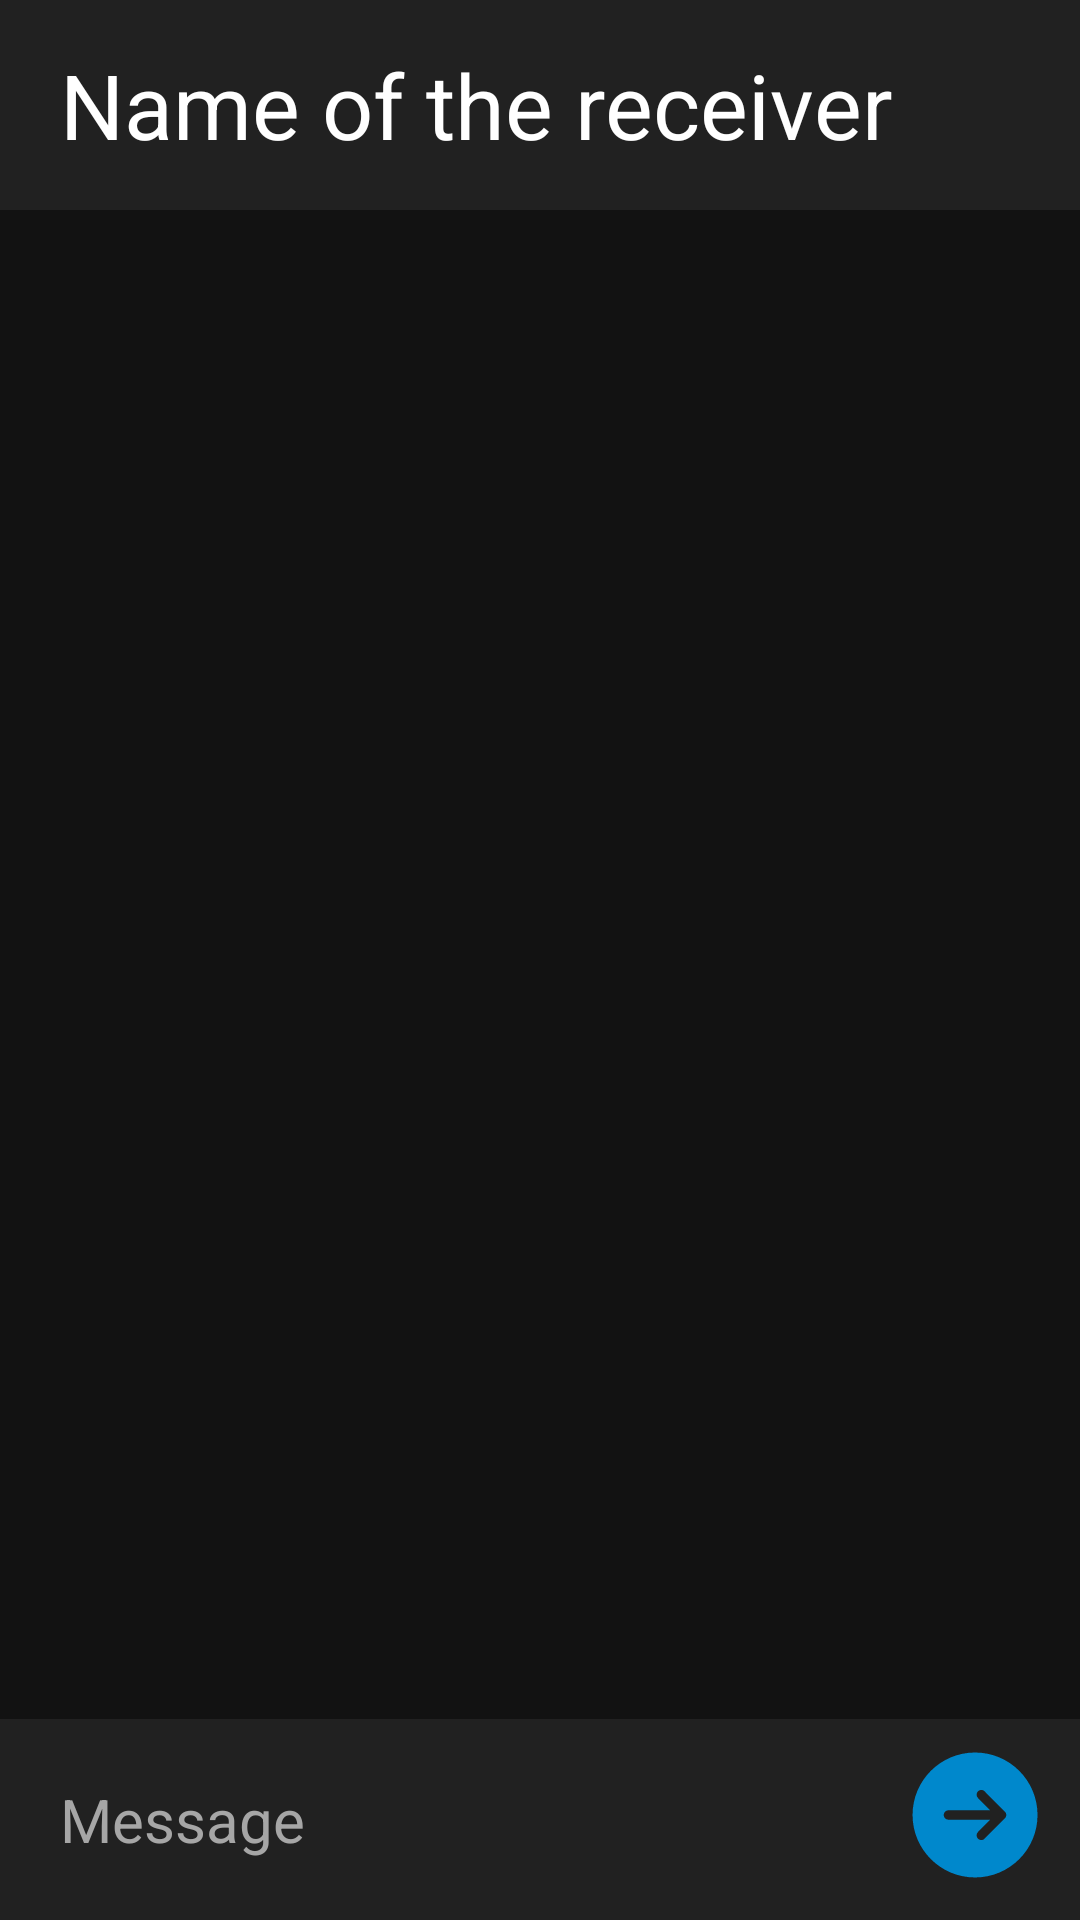

Icons on this 1080px x 1920px Android screen, each with its box as (left=x1, top=y1, right=x2, bottom=y2):
send: (left=912, top=1752, right=1038, bottom=1878)
